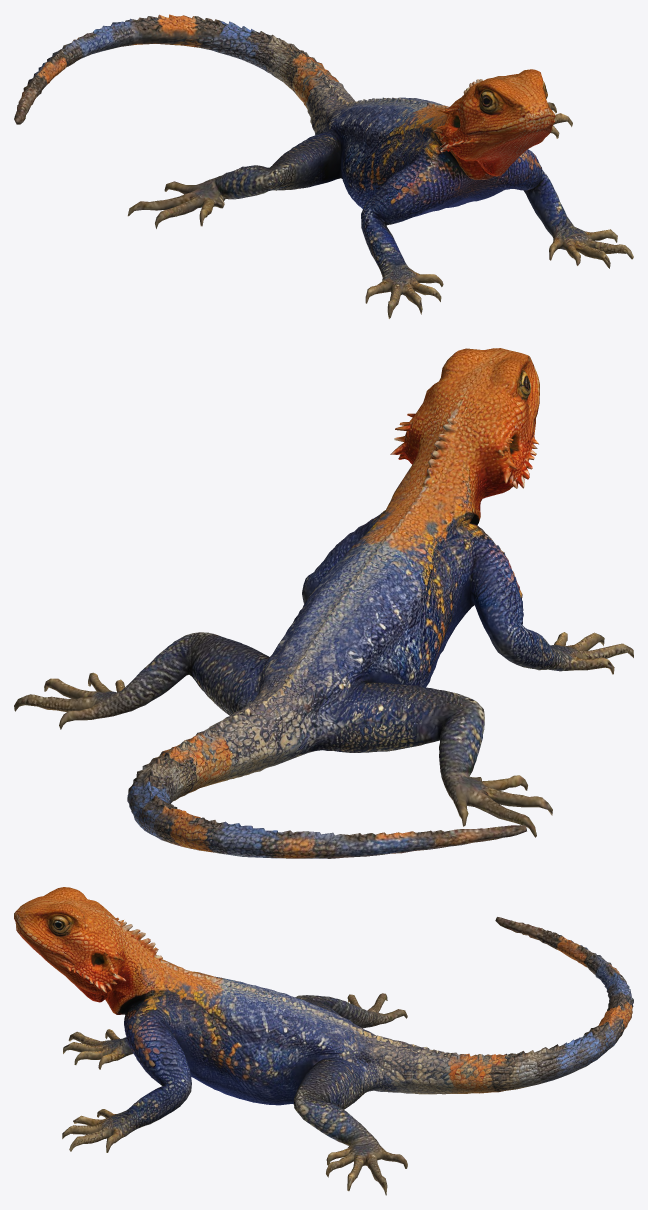
File: agama.glb
The picture shows the model from 3 angles, top to bottom: view 1: azimuth 30°, elevation 25°; view 2: azimuth 150°, elevation 25°; view 3: azimuth 270°, elevation 25°; orthographic projection. The views are drawn at different scales.
Parts seen in each view (by area): view 1: tripo_node_c078d82e-2344-4925-a1d0-1ef3fbb5fee5; view 2: tripo_node_c078d82e-2344-4925-a1d0-1ef3fbb5fee5; view 3: tripo_node_c078d82e-2344-4925-a1d0-1ef3fbb5fee5.
Part boxes in pixels (bbox=[...]): tripo_node_c078d82e-2344-4925-a1d0-1ef3fbb5fee5: bbox=[14, 14, 633, 318]; tripo_node_c078d82e-2344-4925-a1d0-1ef3fbb5fee5: bbox=[14, 348, 633, 858]; tripo_node_c078d82e-2344-4925-a1d0-1ef3fbb5fee5: bbox=[14, 887, 633, 1195].
Bounding box in the file's own units: 0.8303 × 0.3584 × 1.
Materials: 1 (1 with a texture image).
